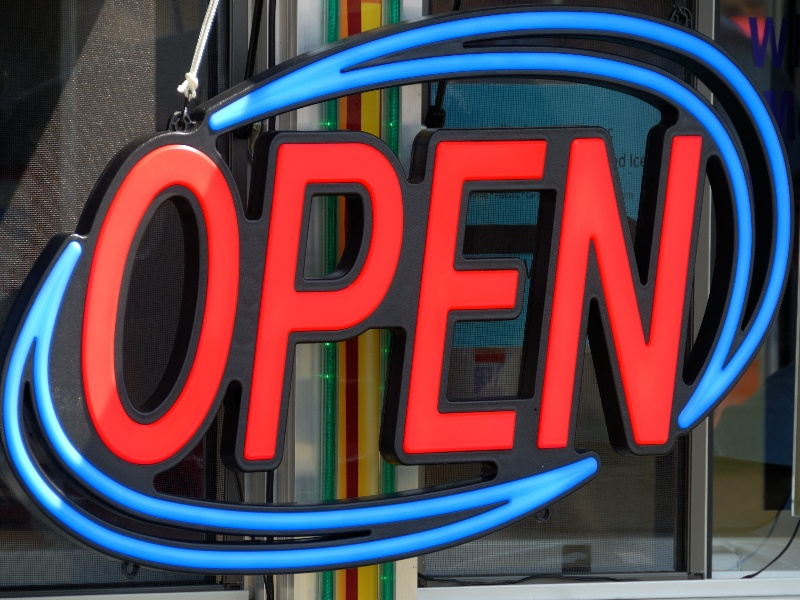letters: (234, 133, 407, 474), (392, 135, 560, 464), (537, 133, 703, 454), (81, 142, 240, 466)
